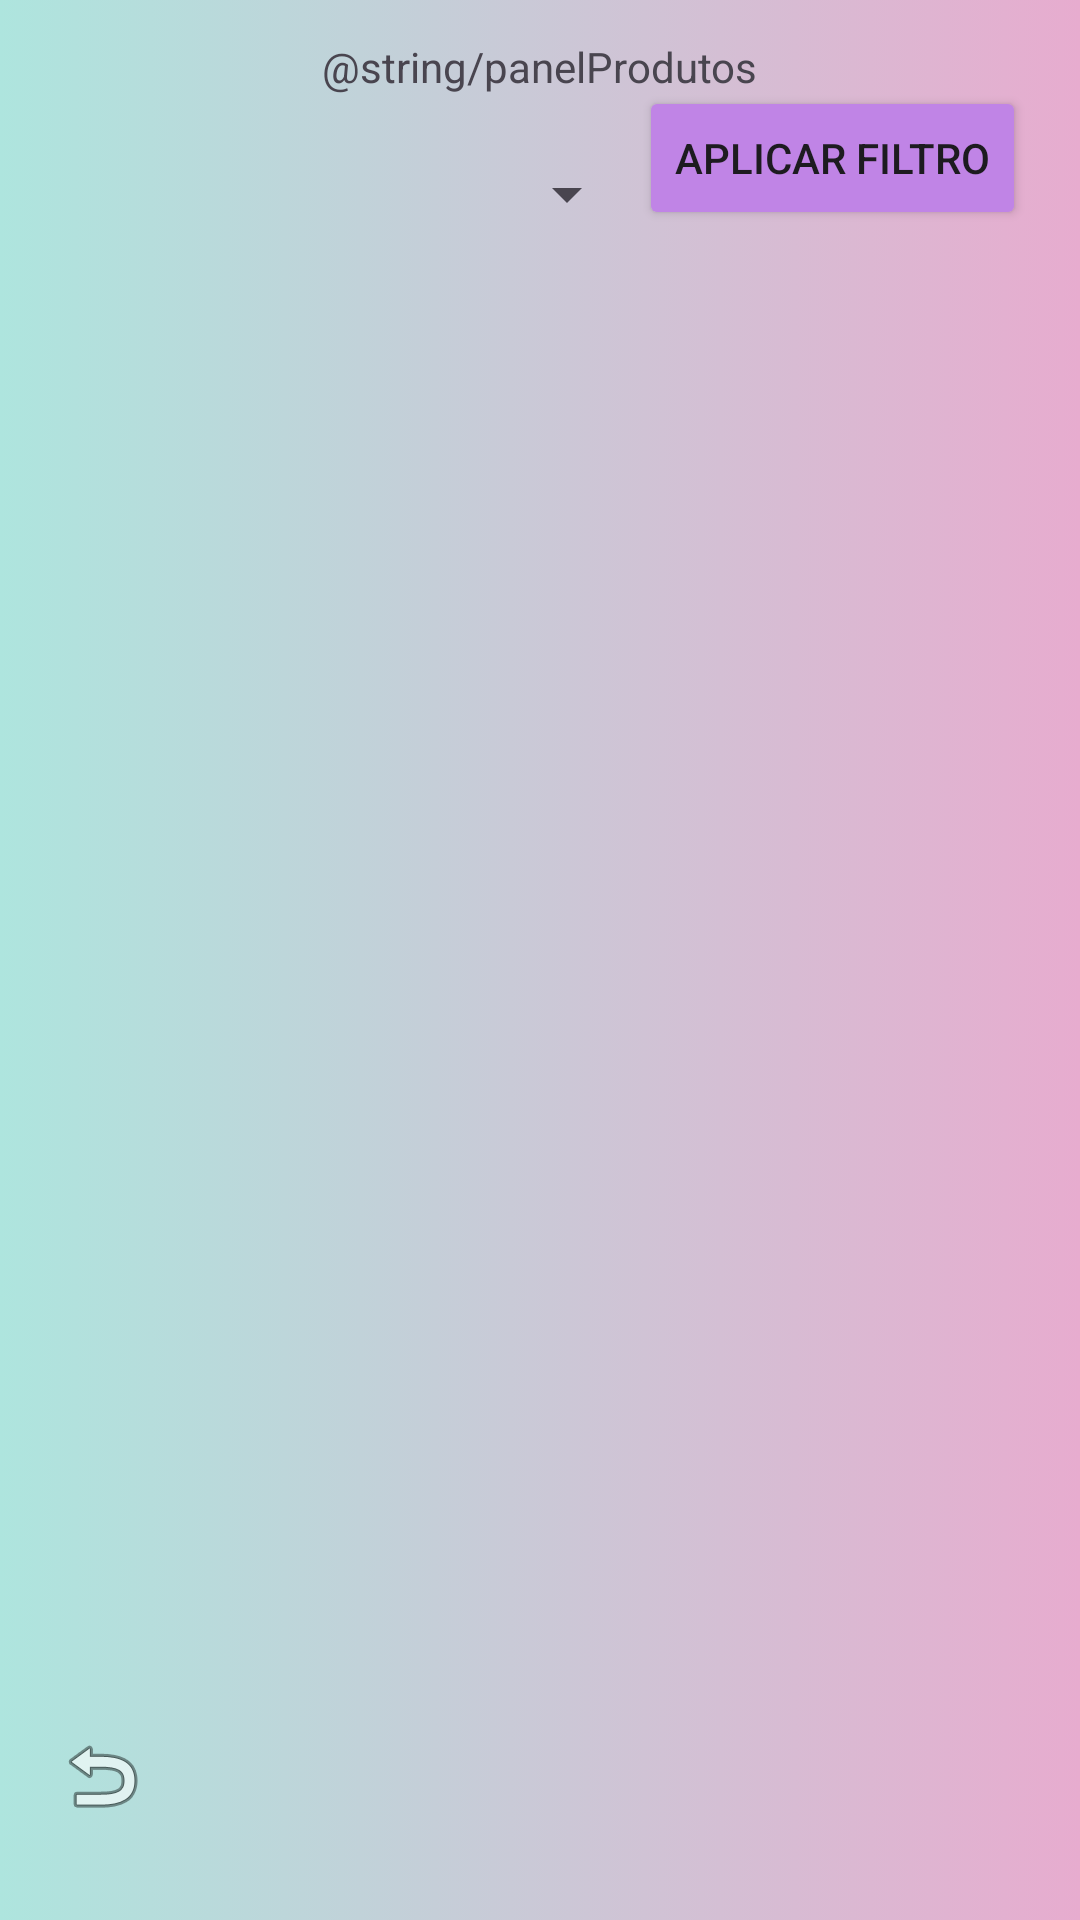

Named icons in this screenshot (1080 × 1920) and their centers, (x,y):
revert: (103,1776)
